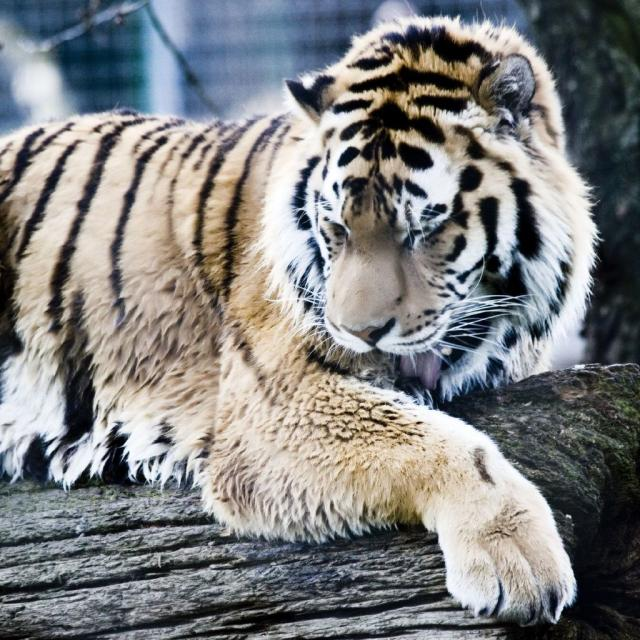Tiger: (0, 10, 599, 616)
